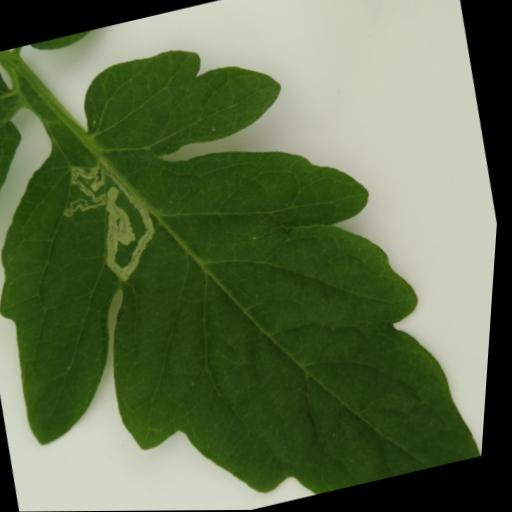Leaf_Miner: (0, 79, 238, 331)
